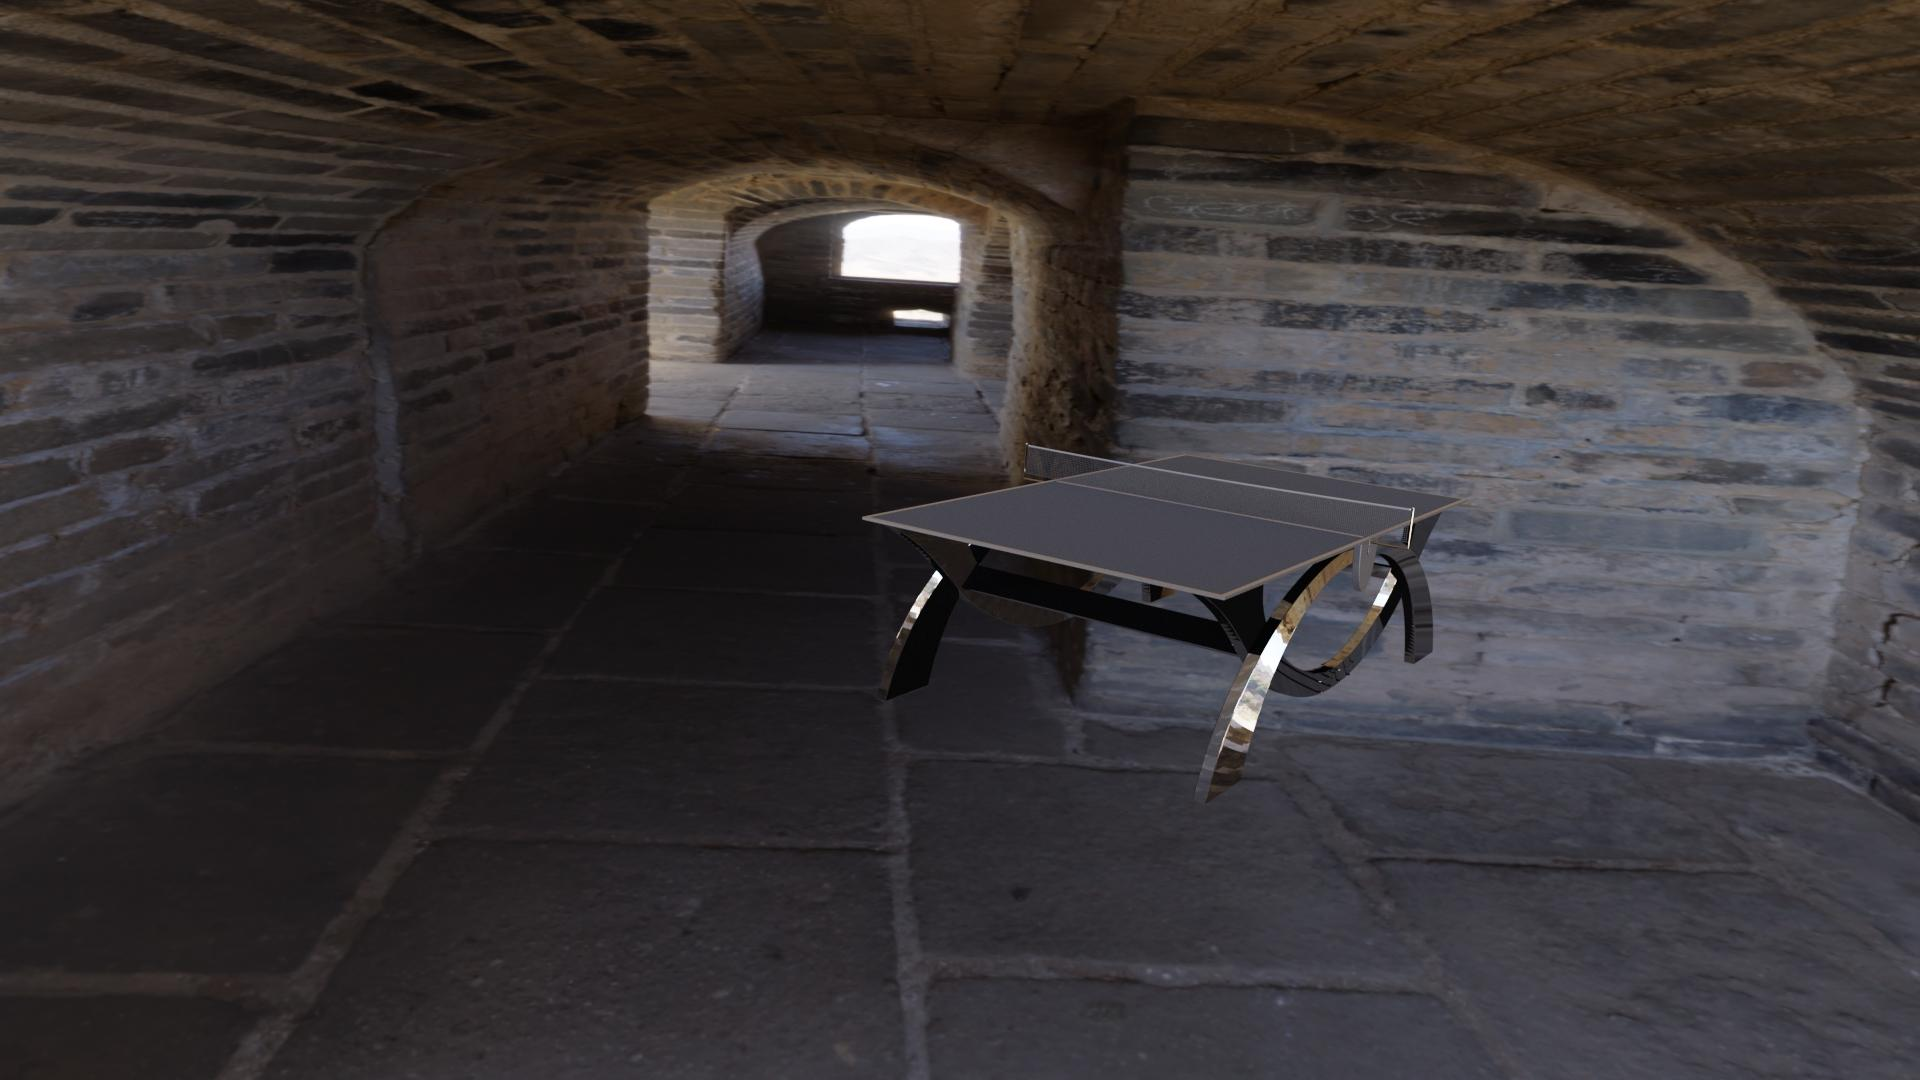table: (870, 455, 1462, 595)
